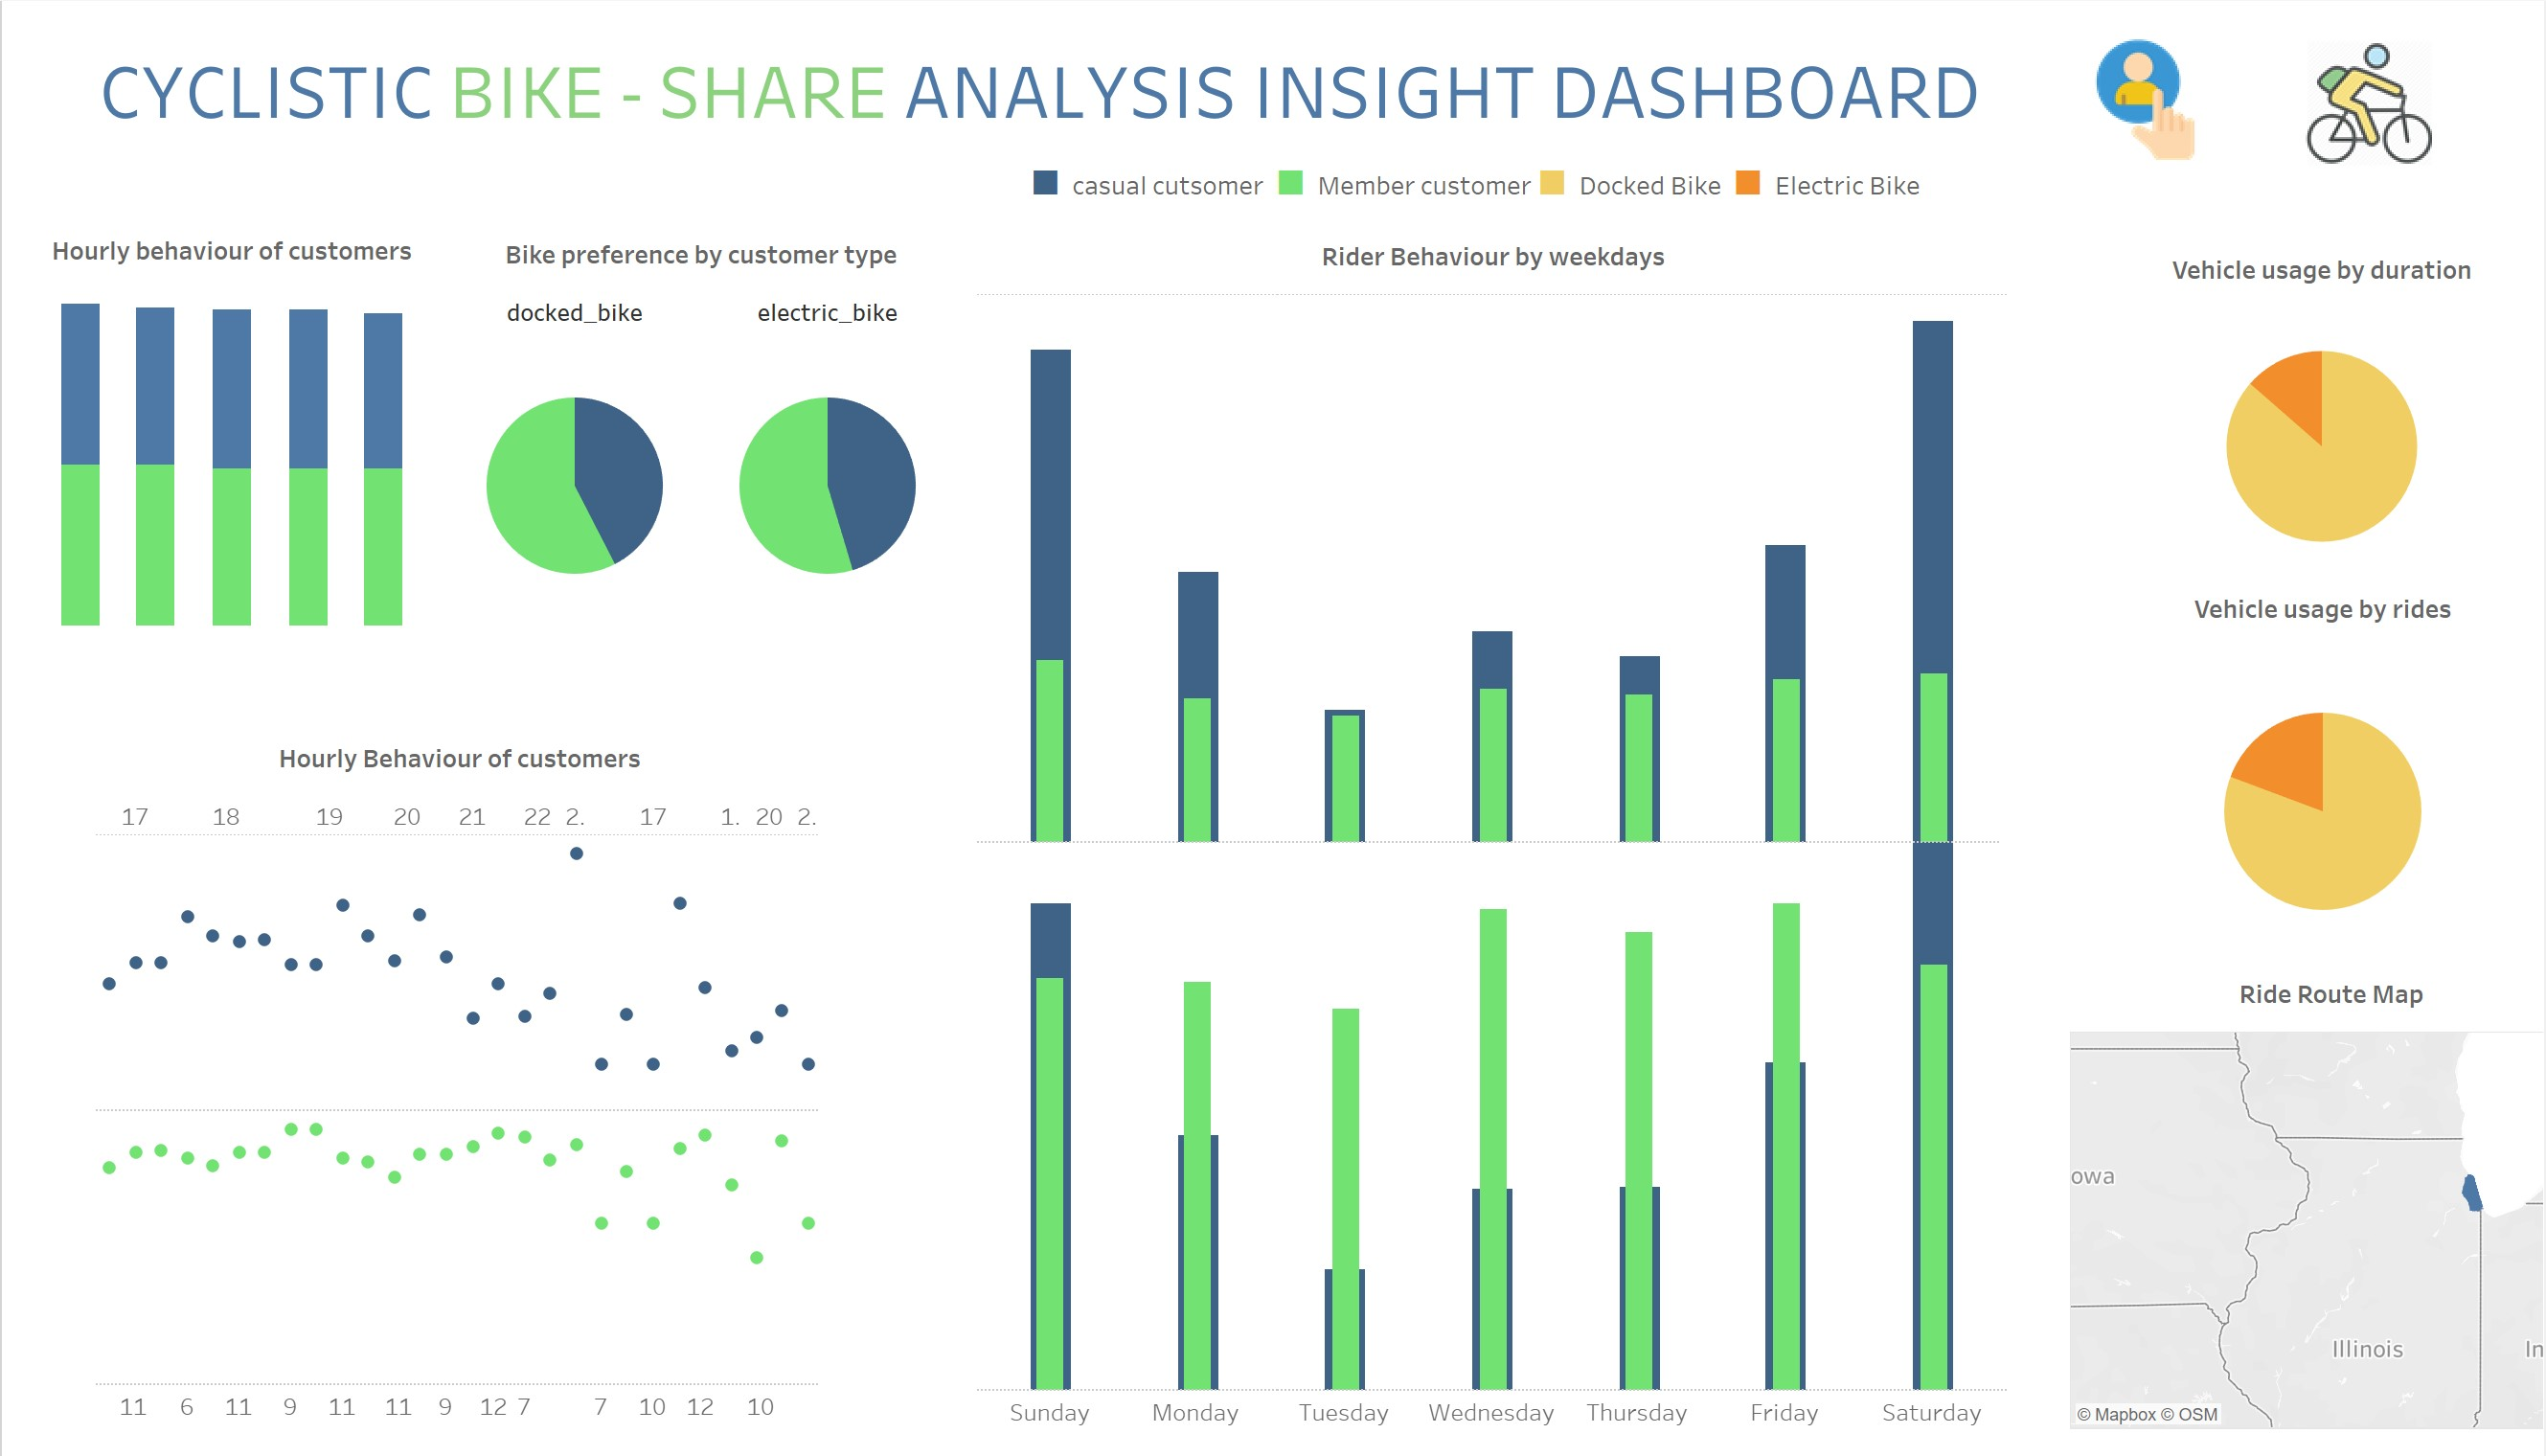

This screenshot's page, from the dashboard's own definition file:
{"tool":"tableau","page":{"name":"Cyclistic Bike-share Insights","canvas":[1366,768],"ordinal":0},"visuals":[{"type":"text","box":[48,18,990,57]},{"type":"dashboard-object","box":[1083,20,69,63]},{"type":"dashboard-object","box":[1201,20,69,66]},{"type":"filter","title":"RPD/DPD","param":"[federated.0x1bmw10ahlb6d17w5ocf0ntcinu].[none:Member_Casual:nk]","box":[1019,56,160,55]},{"type":"filter","title":"RPD/DPD","param":"[federated.0x1bmw10ahlb6d17w5ocf0ntcinu].[none:Rideable_type:nk]","box":[1186,56,160,50]},{"type":"text","box":[534,71,480,38]},{"type":"worksheet","title":"Popular stations","mark":"Automatic","rows":["rides_per_day_c"],"cols":["Start_Station_Name"],"box":[21,117,198,209]},{"type":"worksheet","title":"BIKE Preference","mark":"Pie","cols":["Rideable_type (cbp_data)"],"box":[233,119,264,215]},{"type":"worksheet","title":"RPD/DPD","mark":"Bar","rows":["dur_per_day_c","dur_per_day_m","rides_per_day_c","rides_per_day_m"],"cols":["Started_at_date"],"box":[509,120,538,627]},{"type":"worksheet","title":"Bike Usage by duration","mark":"Pie","box":[1089,127,243,178]},{"type":"worksheet","title":"Hourly Behaviour","mark":"Circle","cols":["Member_Casual","Ended_at_time","Started_at_time"],"box":[49,382,380,362]},{"type":"worksheet","title":"MAP","mark":"Multipolygon","box":[1074,505,273,241]}]}

Visuals, with their boxes in screenshot pixels (x1, y1, x2, y2), scaled from the page's 1366x768 canvas onto the 2546x1456 screenshot:
text: bbox(89, 34, 1935, 142)
dashboard-object: bbox(2018, 38, 2148, 157)
dashboard-object: bbox(2239, 38, 2367, 163)
"RPD/DPD" filter: bbox(1899, 106, 2197, 211)
"RPD/DPD" filter: bbox(2211, 106, 2509, 201)
text: bbox(995, 135, 1890, 207)
"Popular stations" worksheet: bbox(39, 222, 408, 618)
"BIKE Preference" worksheet (Pie marks): bbox(434, 226, 926, 633)
"RPD/DPD" worksheet (Bar marks): bbox(948, 228, 1951, 1416)
"Bike Usage by duration" worksheet (Pie marks): bbox(2030, 240, 2483, 579)
"Hourly Behaviour" worksheet (Circle marks): bbox(91, 724, 800, 1410)
"MAP" worksheet (Multipolygon marks): bbox(2002, 957, 2511, 1414)
